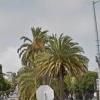Palm tree: (18, 16, 88, 88)
